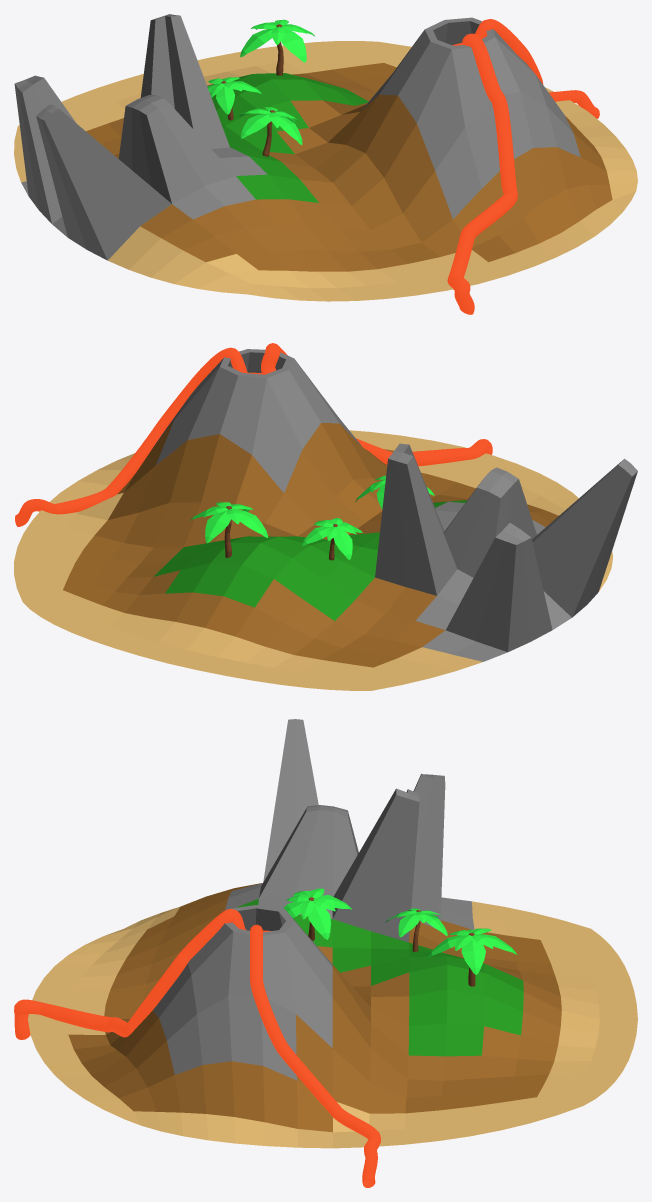
The model's file is volcano.glb.
The picture shows the model from 3 angles, top to bottom: view 1: azimuth 30°, elevation 25°; view 2: azimuth 150°, elevation 25°; view 3: azimuth 270°, elevation 25°; orthographic projection. The views are drawn at different scales.
Visible parts, largest first — view 1: Plane, BezierCurve.001, Plane.006, BezierCurve, Plane.003, Plane.002; view 2: Plane, BezierCurve, BezierCurve.001, Plane.006, Plane.002; view 3: Plane, BezierCurve.001, BezierCurve, Plane.006, Plane.003, Plane.002.
Boxes of the visible parts, x1,y1,x2,y2 form: Plane: [14, 14, 637, 301]; BezierCurve.001: [447, 33, 517, 314]; Plane.006: [240, 19, 314, 75]; BezierCurve: [475, 19, 599, 118]; Plane.003: [239, 107, 302, 156]; Plane.002: [207, 77, 261, 120]; Plane: [14, 349, 637, 690]; BezierCurve: [15, 347, 247, 526]; BezierCurve.001: [261, 343, 492, 466]; Plane.006: [190, 502, 268, 557]; Plane.002: [302, 518, 363, 560]; Plane: [28, 719, 637, 1148]; BezierCurve.001: [14, 909, 246, 1039]; BezierCurve: [250, 924, 380, 1187]; Plane.006: [427, 928, 516, 986]; Plane.003: [283, 888, 351, 940]; Plane.002: [385, 908, 447, 951].
Size of the model in its own units: 59.33 by 18.46 by 53.14.
